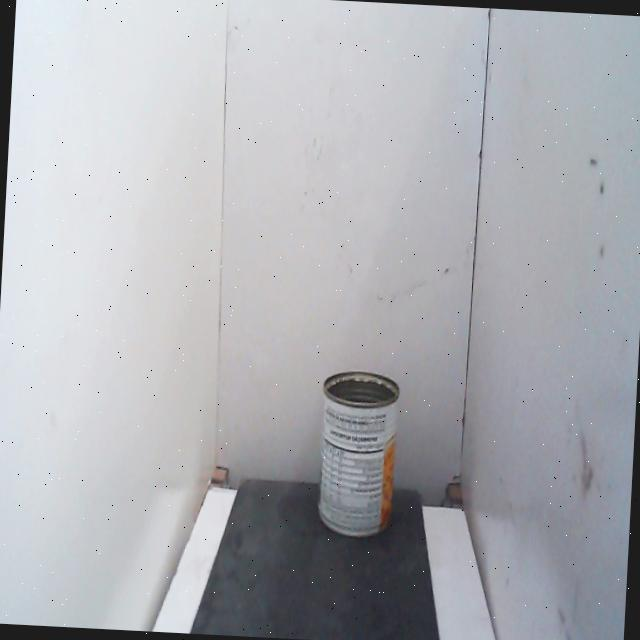metal: (309, 360, 406, 547)
